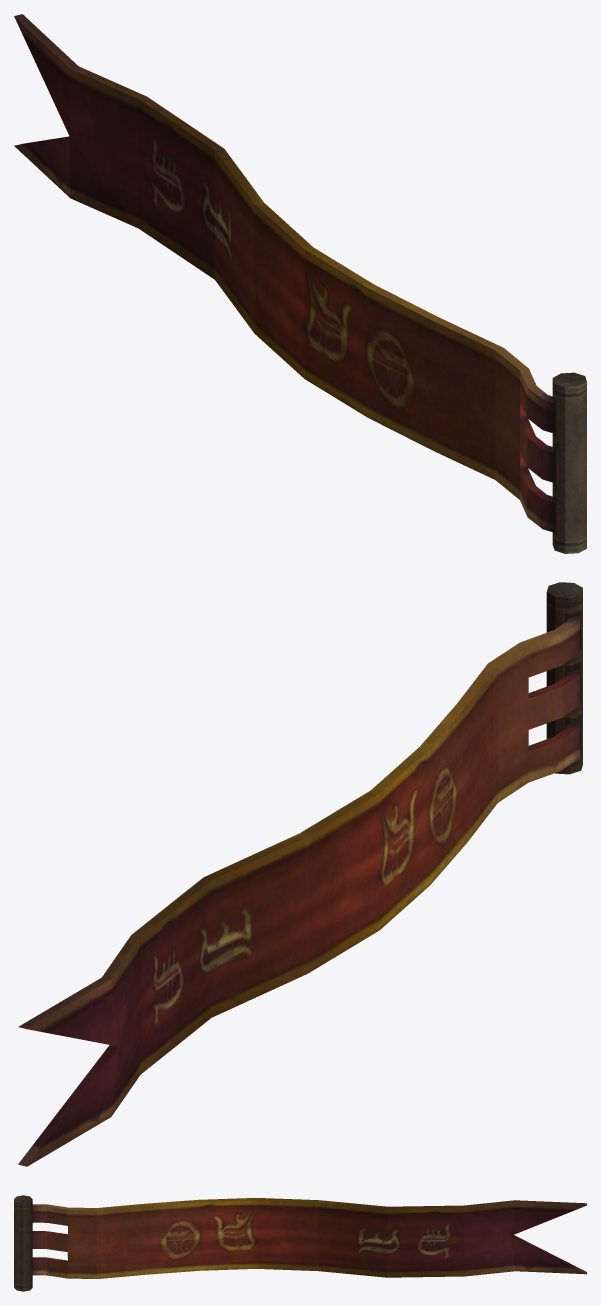
The model's file is juqing_fuben_376_flage01.obj.
The picture shows the model from 3 angles, top to bottom: view 1: azimuth 30°, elevation 25°; view 2: azimuth 150°, elevation 25°; view 3: azimuth 270°, elevation 25°; orthographic projection. The views are drawn at different scales.
Parts seen in each view (by area): view 1: juqing_fuben_376_flage01; view 2: juqing_fuben_376_flage01; view 3: juqing_fuben_376_flage01.
Part boxes in pixels (bbox=[...]): juqing_fuben_376_flage01: bbox=[14, 14, 586, 553]; juqing_fuben_376_flage01: bbox=[18, 582, 582, 1166]; juqing_fuben_376_flage01: bbox=[14, 1195, 586, 1291].
Size of the model in its own units: 37.08 by 97.44 by 572.
1 material, 1 textured.
